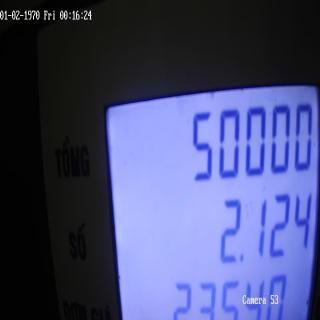screen: (96, 62, 317, 320)
